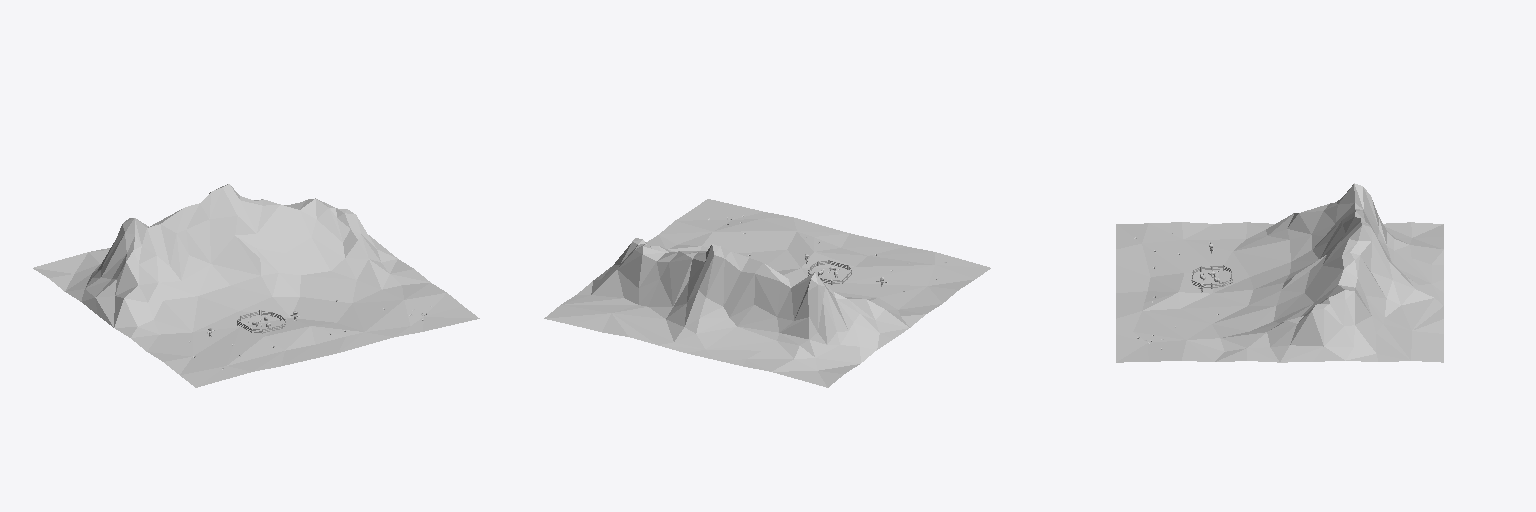
File: shepherd island.obj
The picture shows the model from 3 angles: view 1: azimuth 30°, elevation 25°; view 2: azimuth 150°, elevation 25°; view 3: azimuth 270°, elevation 25°; orthographic projection.
Visible parts, largest first — view 1: terrain-mountain-range_1; view 2: terrain-mountain-range_1; view 3: terrain-mountain-range_1.
Part boxes in pixels (left/top/right/bottom): terrain-mountain-range_1: left=33, top=184, right=479, bottom=387; terrain-mountain-range_1: left=544, top=199, right=990, bottom=387; terrain-mountain-range_1: left=1116, top=183, right=1443, bottom=362.
Size of the model in its own units: 60 by 15.56 by 60.